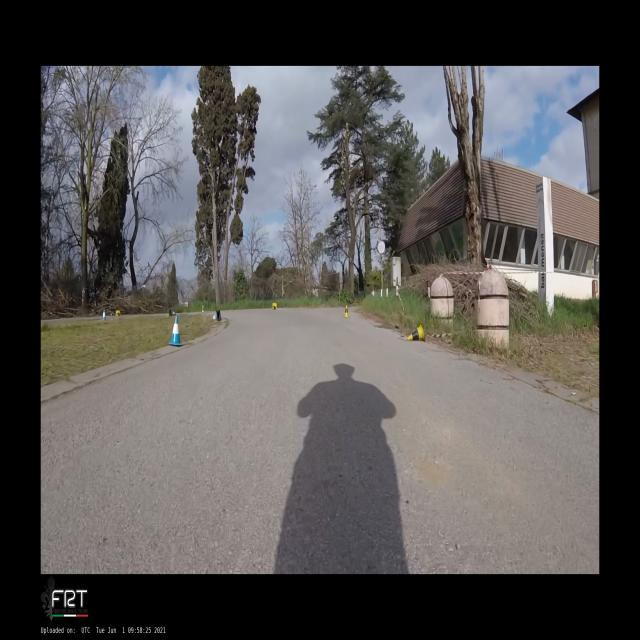blue_cone: (168, 315, 183, 346), (212, 310, 222, 321), (102, 308, 106, 320), (169, 310, 176, 316)
yellow_cone: (408, 322, 426, 342), (343, 305, 350, 318), (272, 302, 277, 310), (116, 310, 120, 316), (202, 304, 204, 312)
